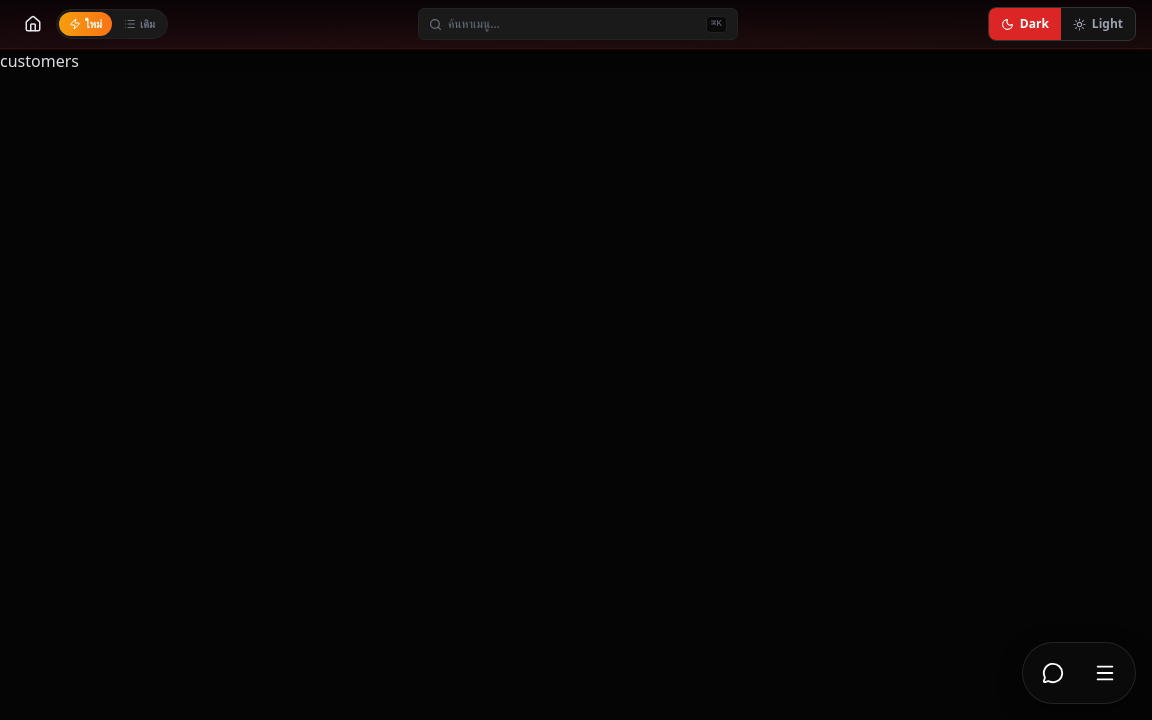
Scenario: Backend Menu D — Rule I full-flow simulate › FS3-bis (V21-T6 fixup) multi-item orb click keeps ArcBloom open with picker mounted on top
Click the button with test id "duo-pill-menu": coordinates (1105, 673) 1081,649 -> 1129,697
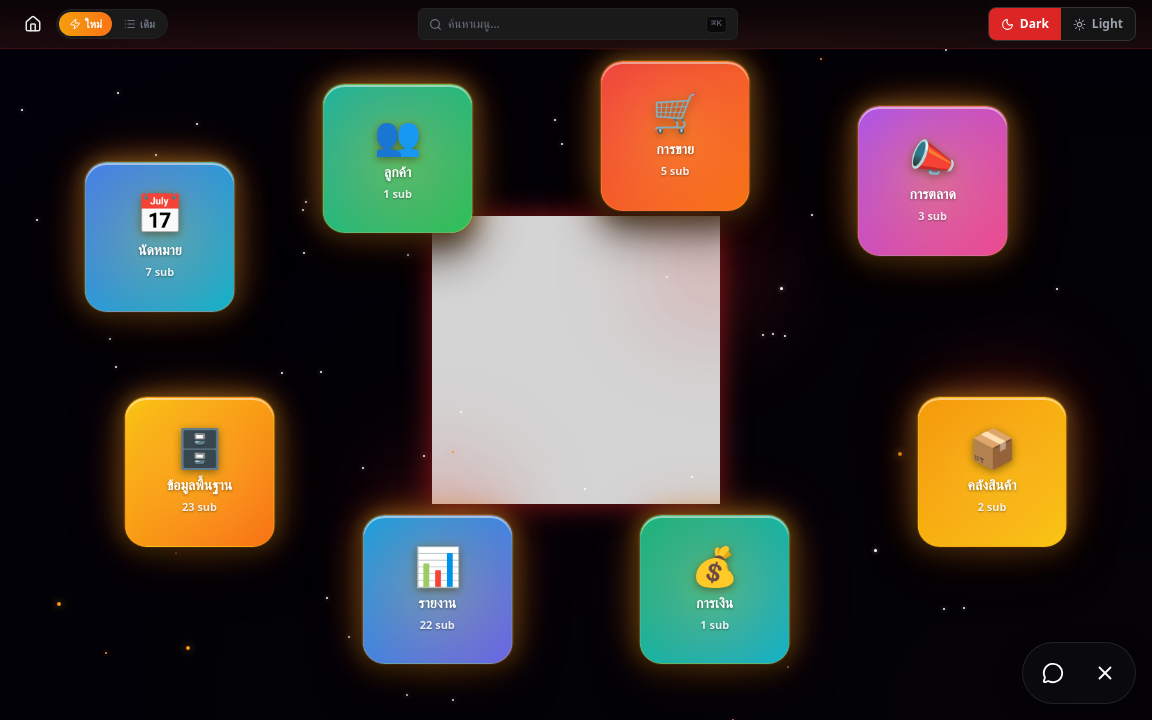
Click the menu item "📅 นัดหมาย 7 sub": coordinates (160, 237) 85,162 -> 235,312
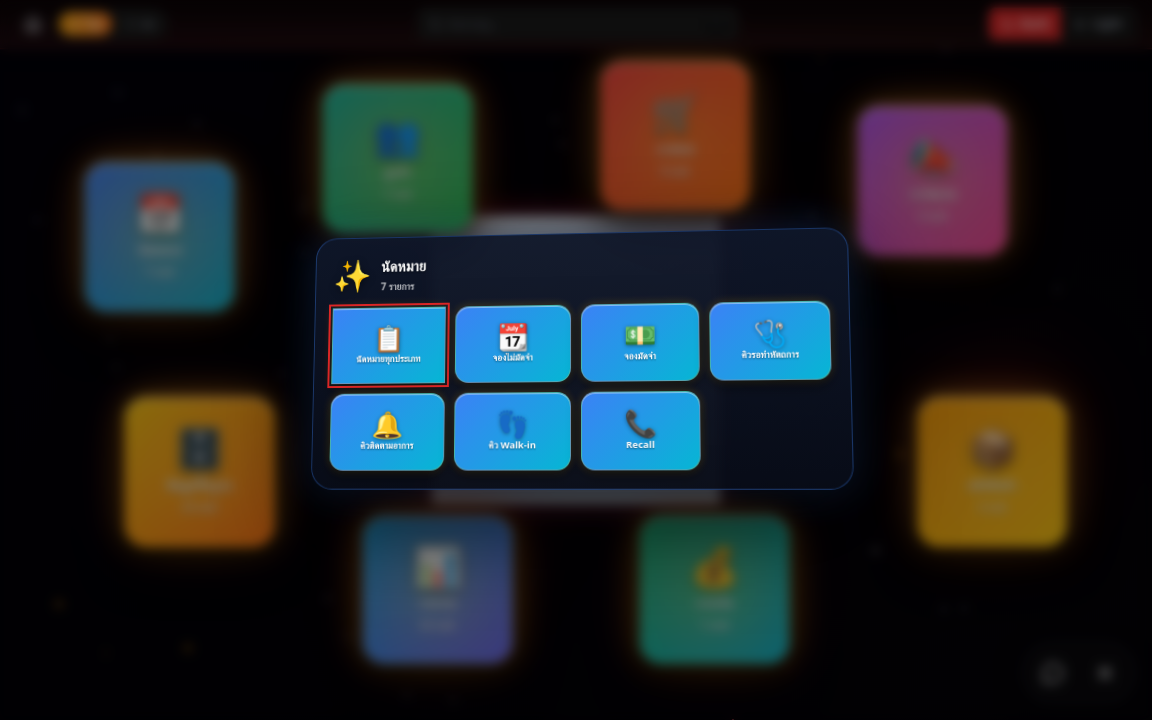
Expected: the dialog with test id "bloom-overlay" is shown
Expected: the dialog with test id "subtab-overlay" is shown
